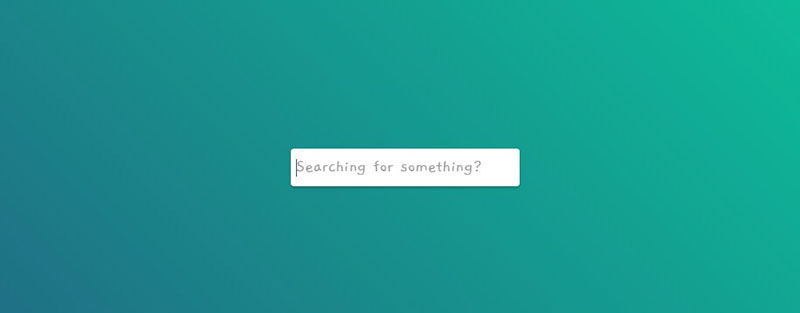search_box: (290, 147, 523, 186)
